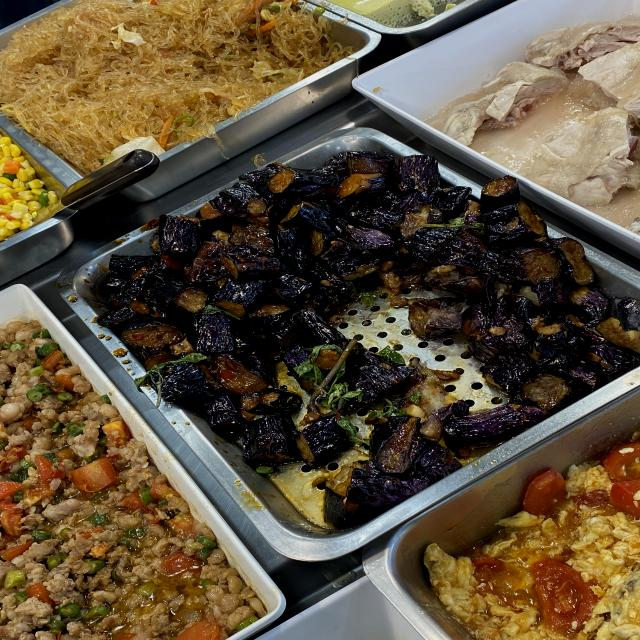eggplant: (170, 211, 323, 349)
